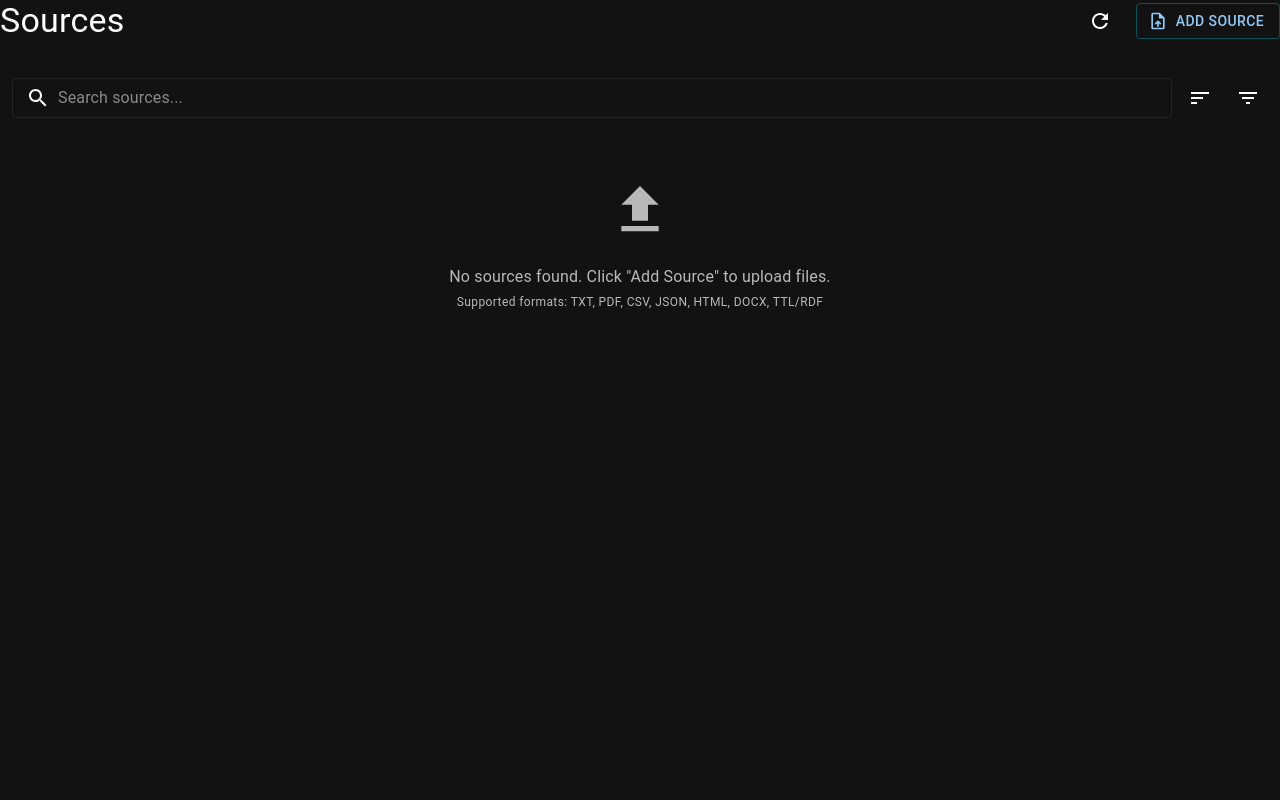
SourcesPage — upload wizard entry point › opens the upload dialog (the wizard entry) from the Add Source action
The width and height of the screenshot is (1280, 800).
Open the upload dialog — the wizard's step 1 (file select) entry point.
Click the button "Add Source": (1208, 21) [1136,3,1279,39]
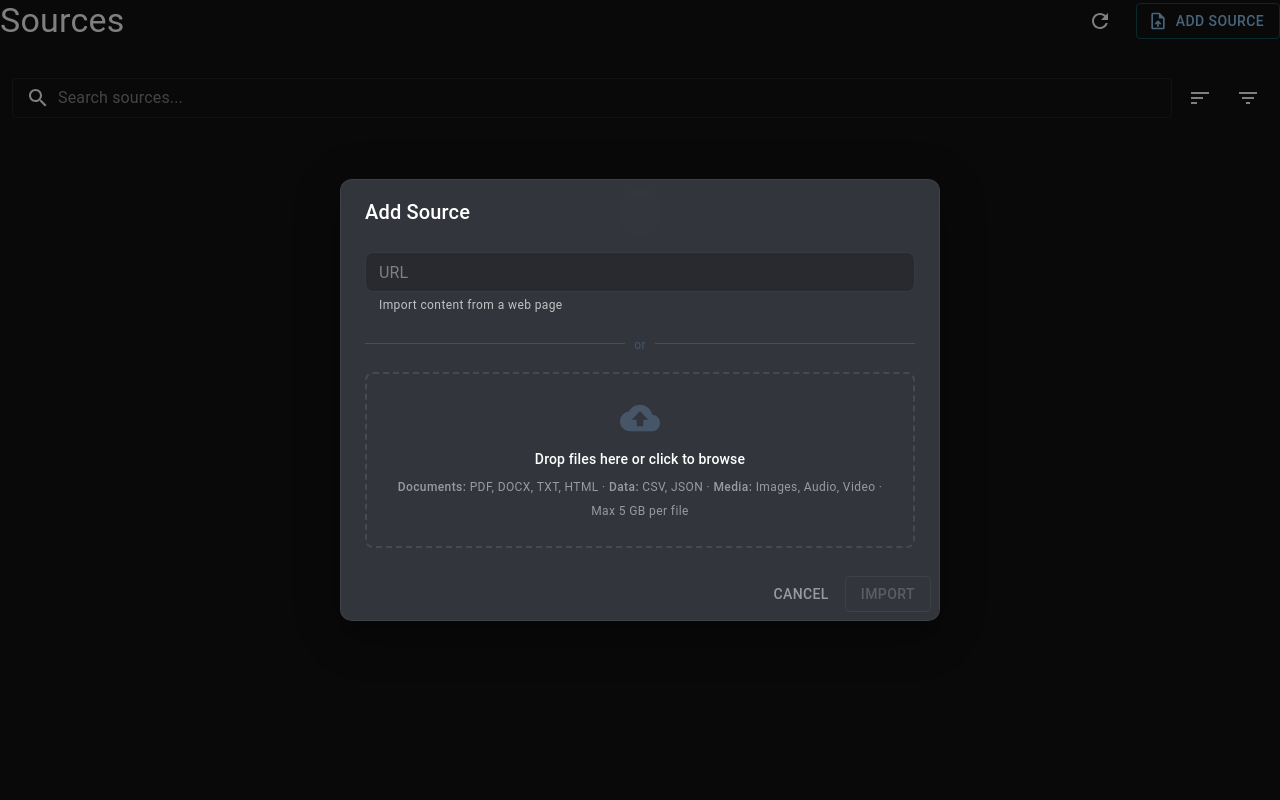
expect the text "Drop files here or click to browse" is shown: met, box [535,451,745,467]
